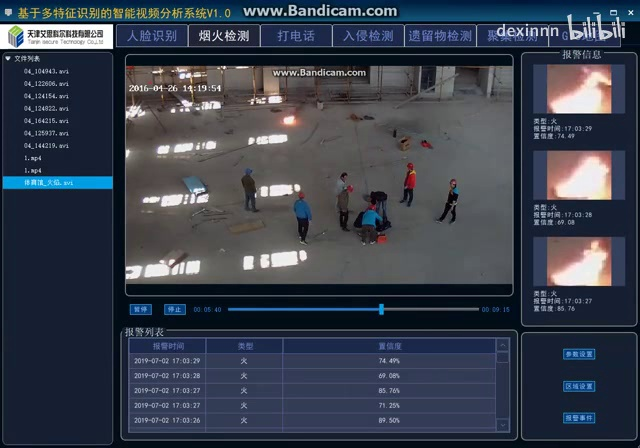fire: (279, 114, 296, 128)
